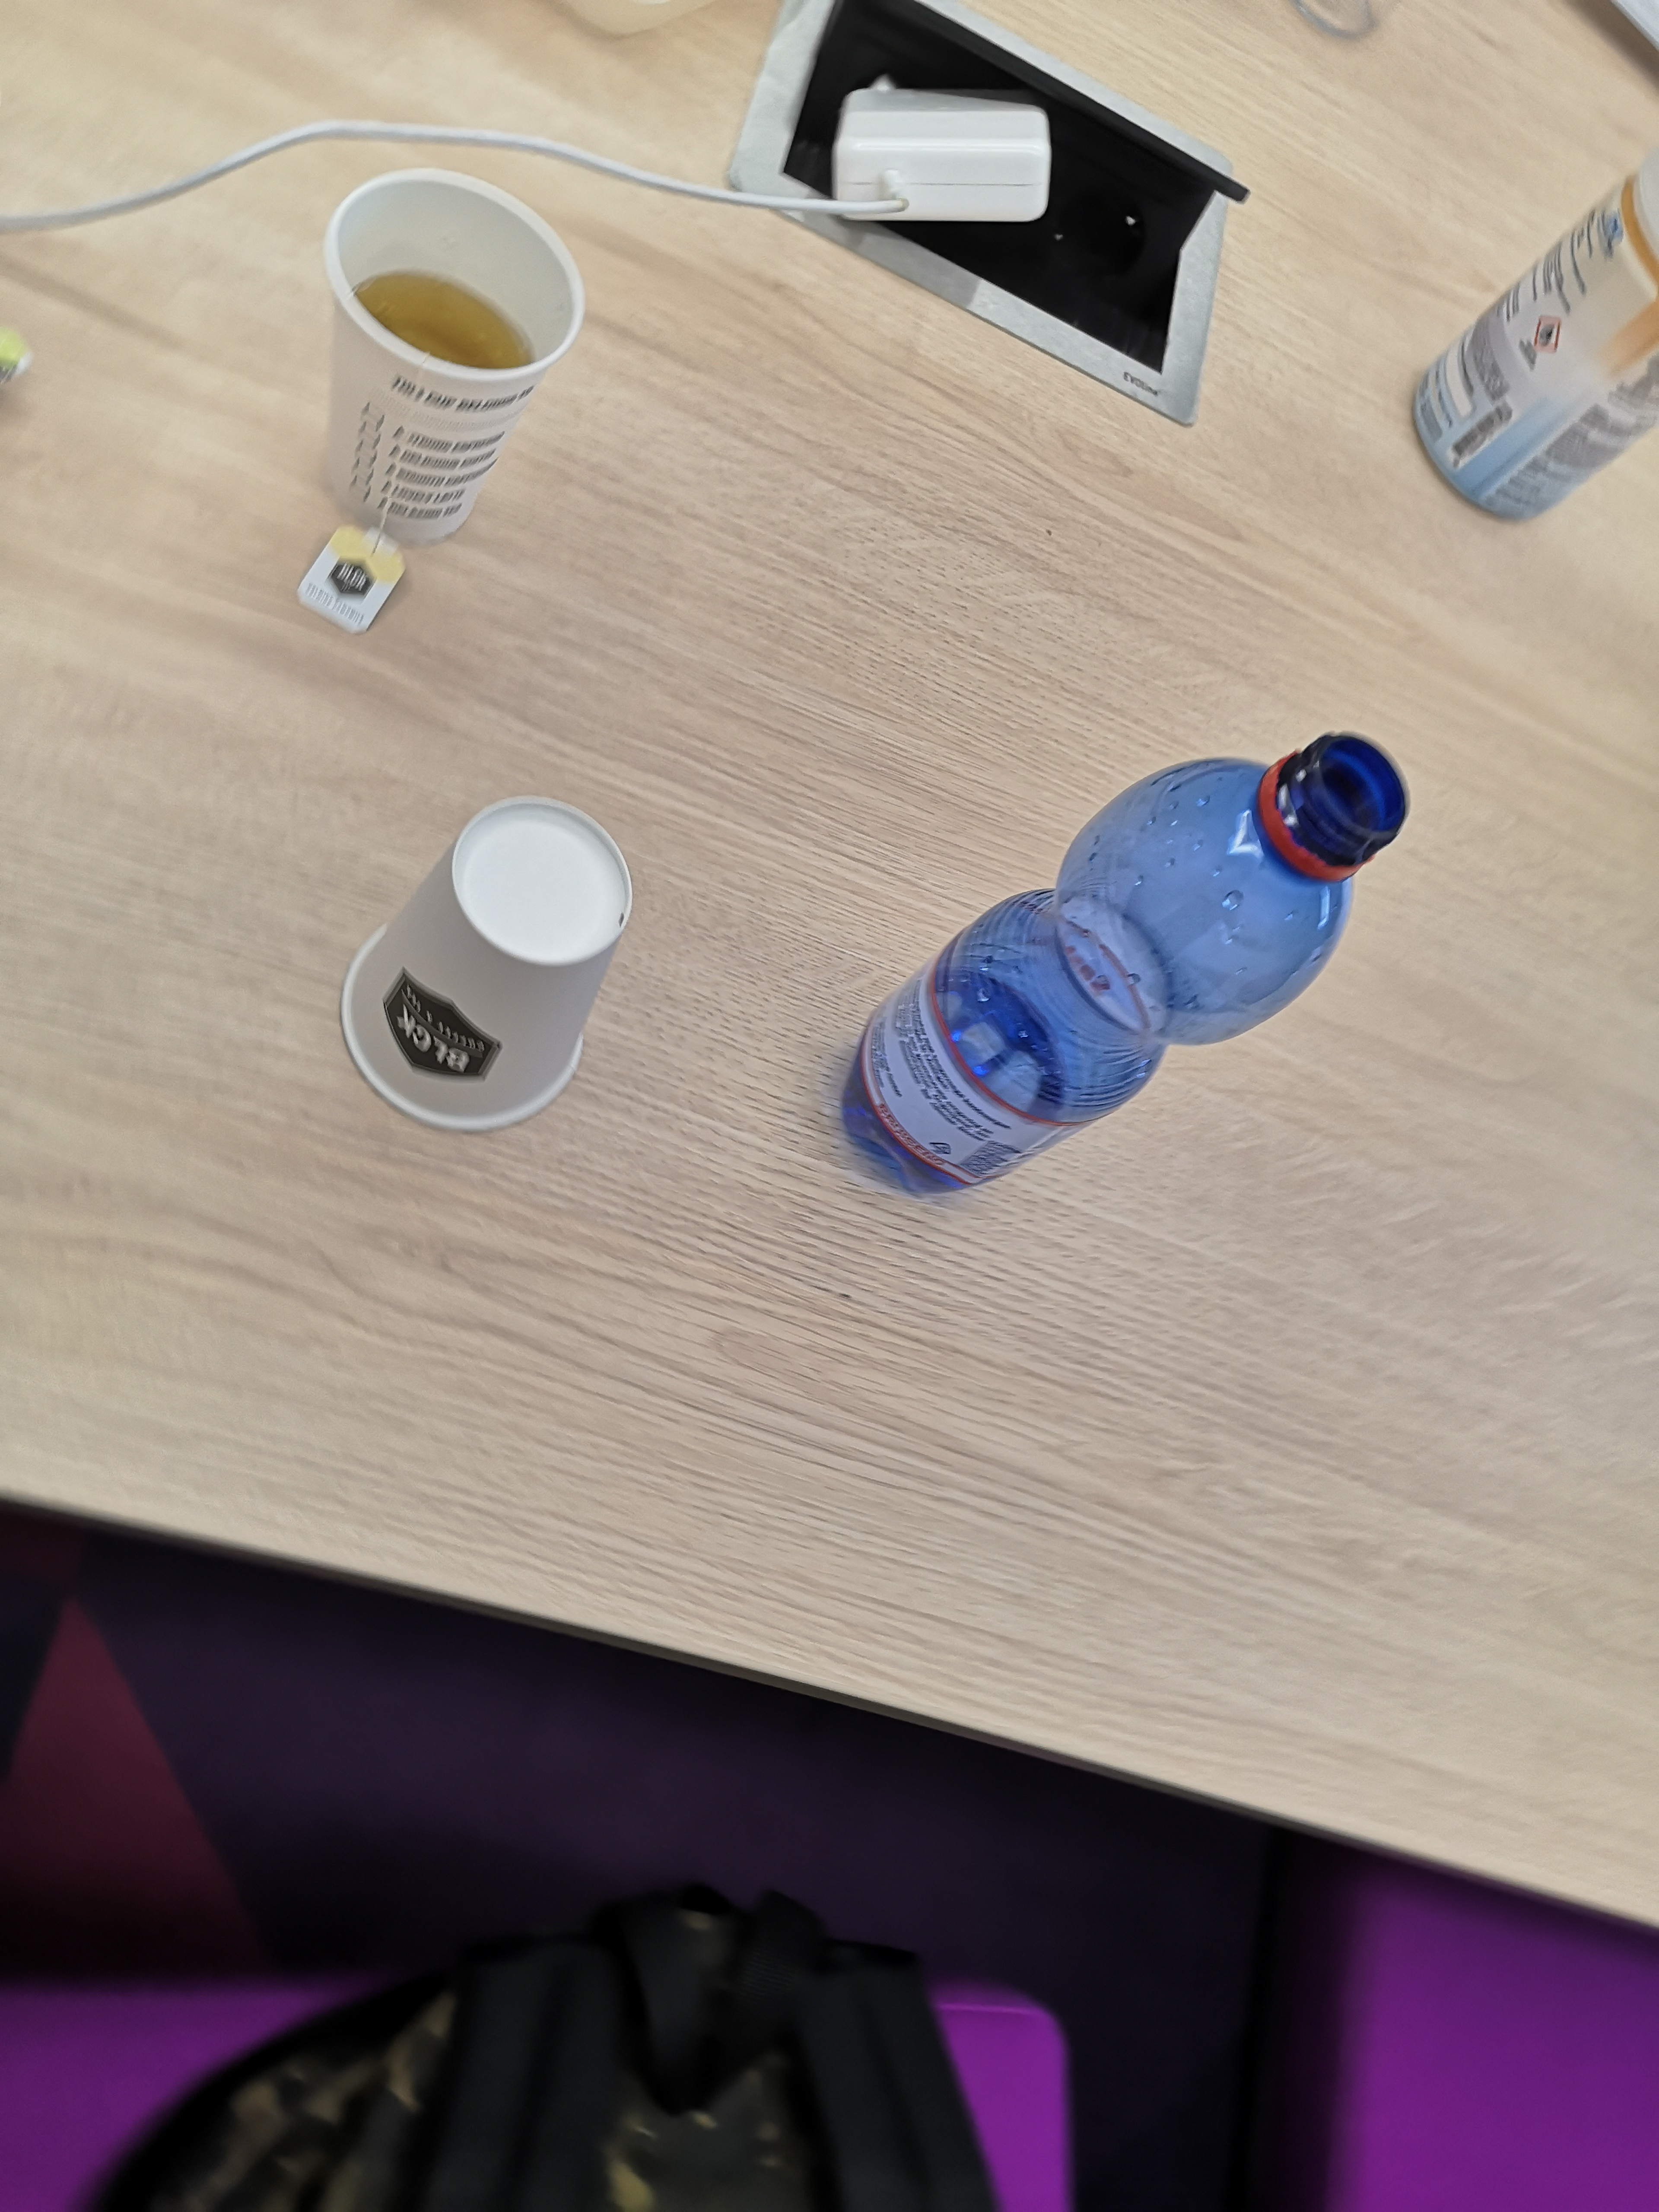cup: (319, 766, 660, 1153), (298, 155, 606, 582)
plastic_bottle: (833, 672, 1439, 1256)
